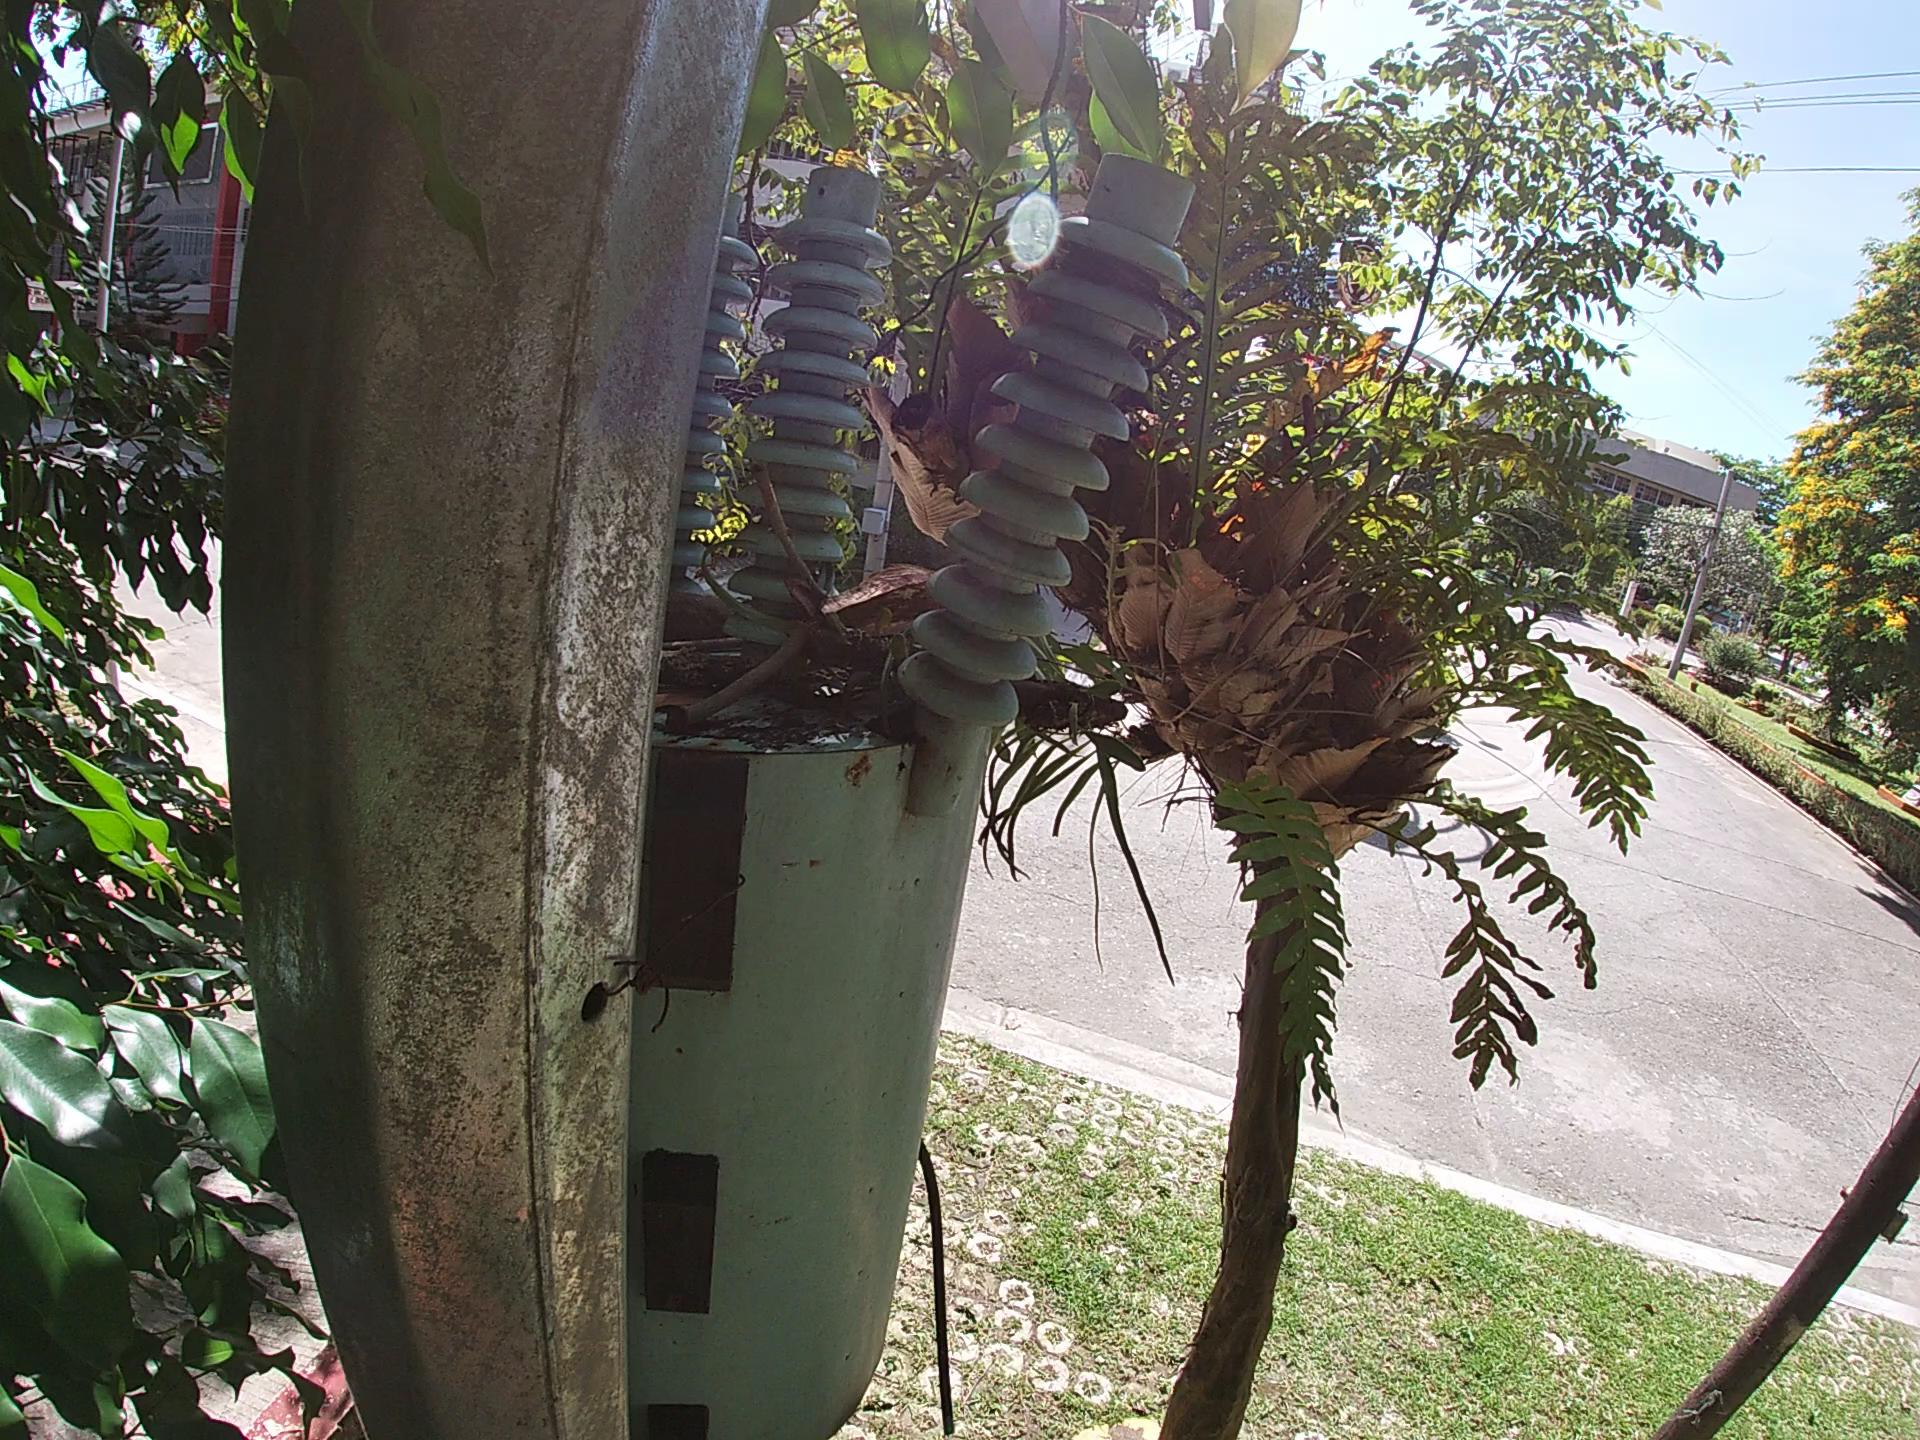branch with leaves: (683, 549, 1421, 970)
mahogany fruit: (670, 537, 853, 672)
tree branch: (588, 626, 810, 746)
